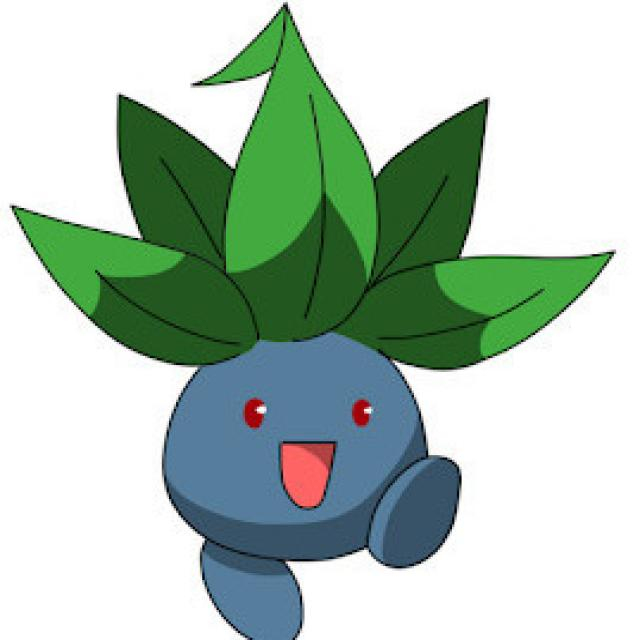Oddish: (139, 124, 522, 566)
